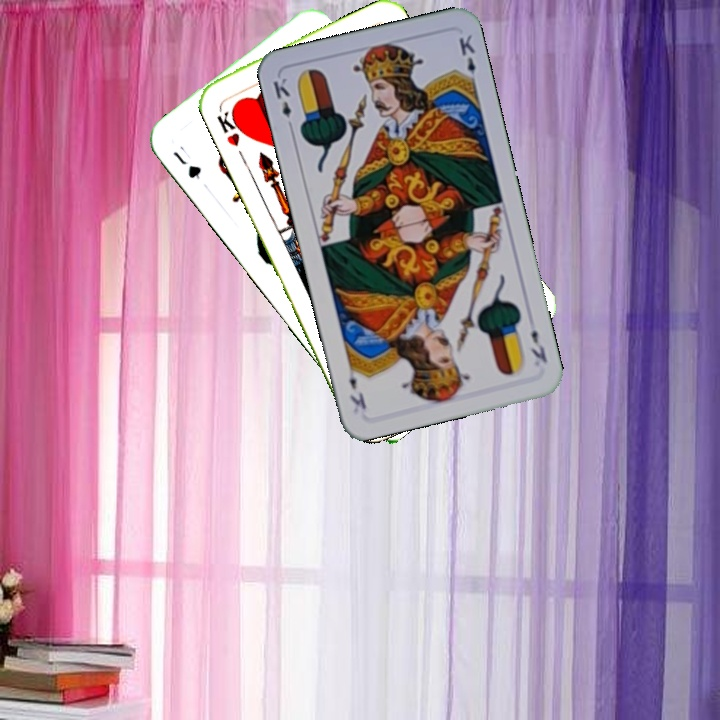EK: (269, 73, 296, 133), (527, 325, 550, 365)
GU: (168, 147, 204, 182)
HK: (213, 101, 249, 149)
